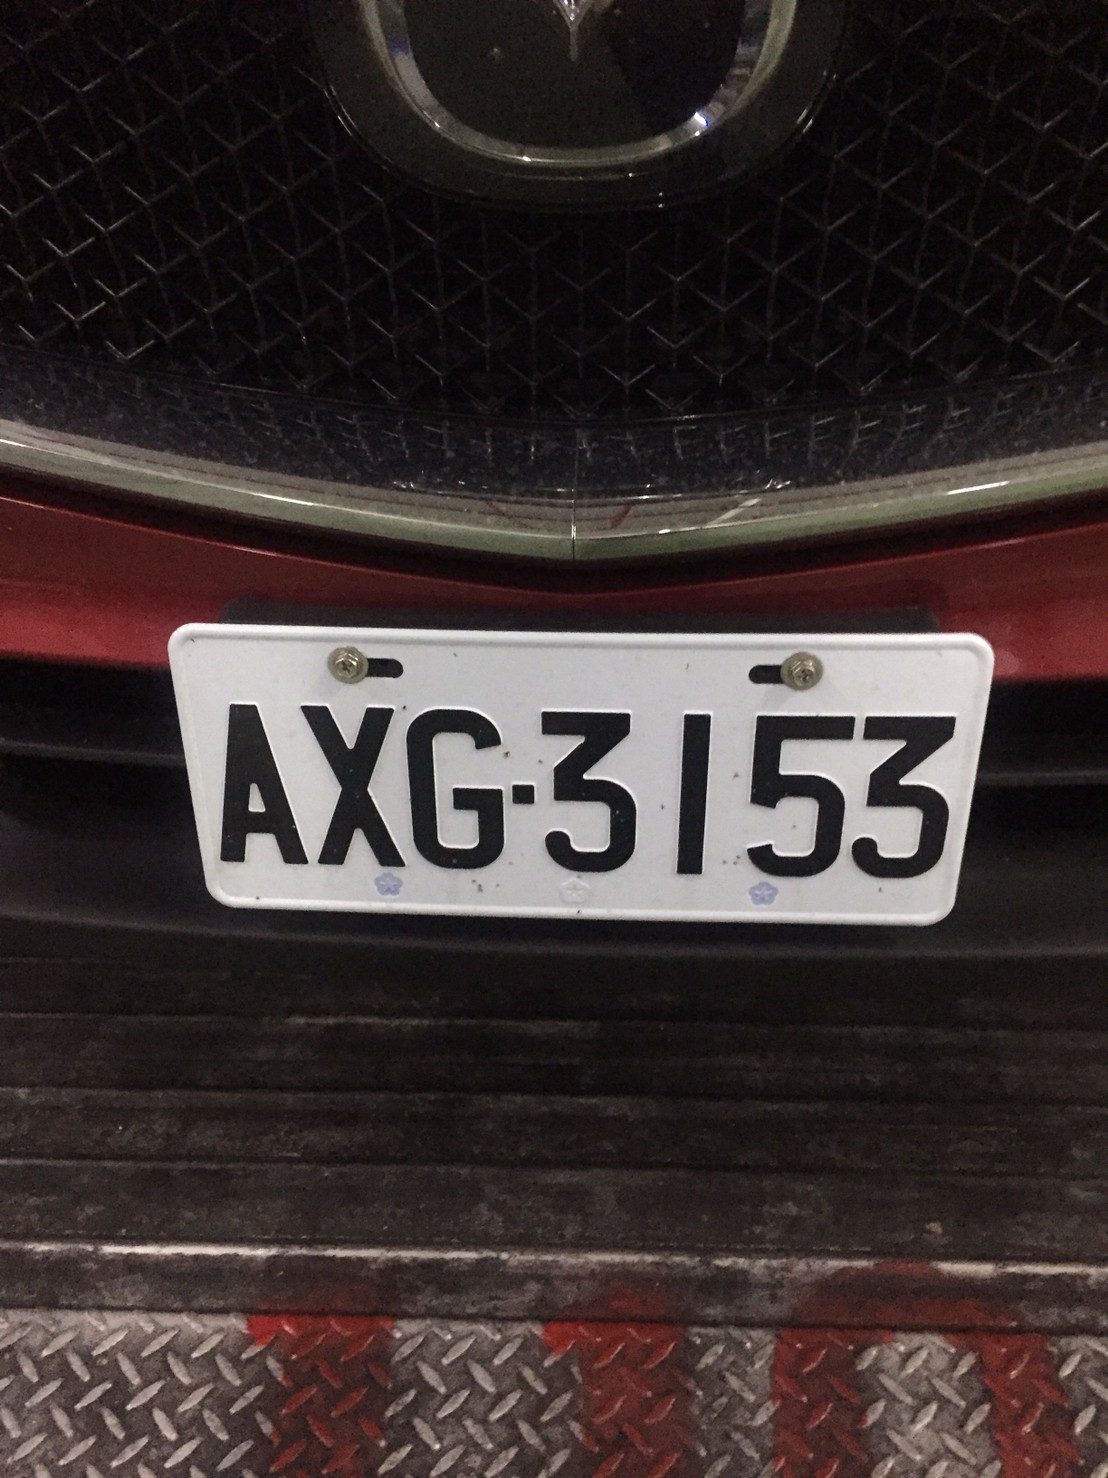LP: (169, 619, 1003, 920)
